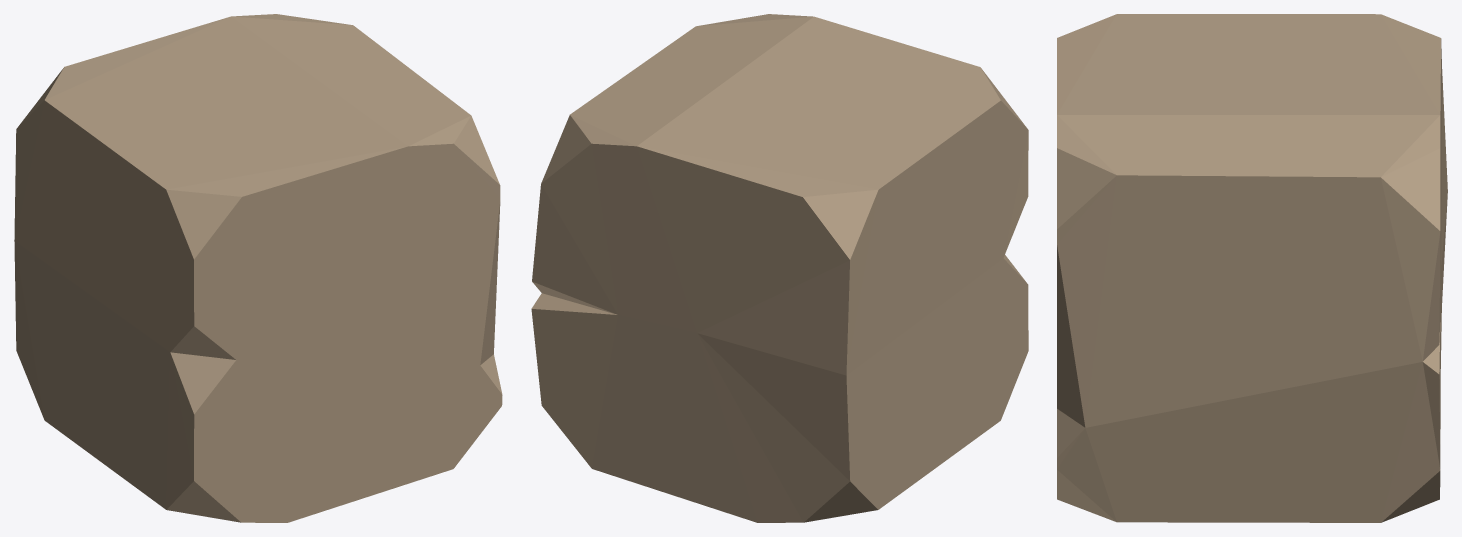
The model's file is Cube Block_2.fbx.
The picture shows the model from 3 angles, left to right: view 1: azimuth 30°, elevation 25°; view 2: azimuth 150°, elevation 25°; view 3: azimuth 270°, elevation 25°; orthographic projection. The views are drawn at different scales.
Visible parts, largest first — view 1: Cube Block_2; view 2: Cube Block_2; view 3: Cube Block_2.
Boxes of the visible parts, x1=… form: Cube Block_2: x1=14, y1=14, x2=502, y2=522; Cube Block_2: x1=531, y1=14, x2=1028, y2=522; Cube Block_2: x1=1057, y1=14, x2=1447, y2=522.
Size of the model in its own units: 0.5622 by 0.5822 by 0.5495.
